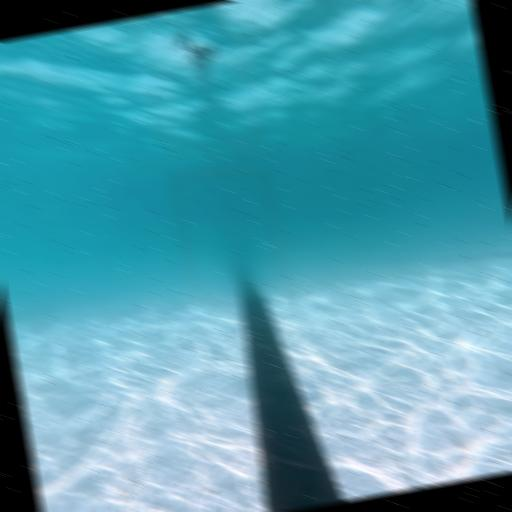gate: (168, 162, 290, 304)
